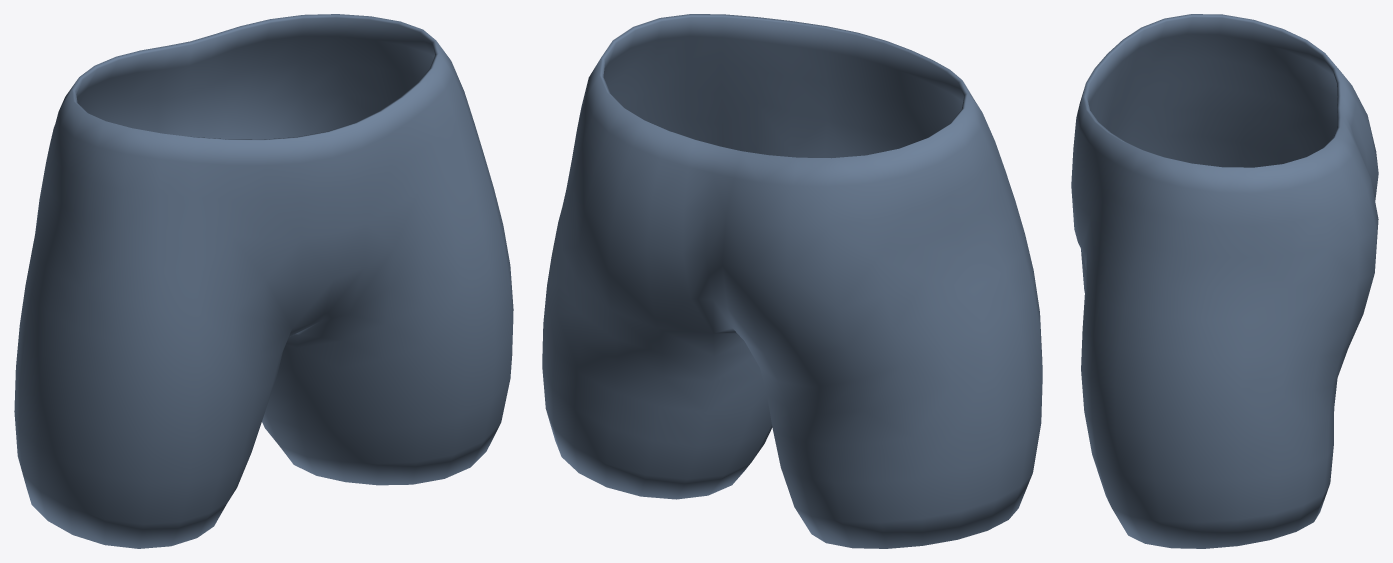
File: shorts.glb
The picture shows the model from 3 angles, left to right: view 1: azimuth 30°, elevation 25°; view 2: azimuth 150°, elevation 25°; view 3: azimuth 270°, elevation 25°; orthographic projection. The views are drawn at different scales.
Parts seen in each view (by area): view 1: shorts; view 2: shorts; view 3: shorts.
Boxes of the visible parts, x1,y1,x2,y2 form: shorts: [14, 14, 513, 548]; shorts: [542, 14, 1042, 548]; shorts: [1071, 14, 1378, 548].
Size of the model in its own units: 0.4087 by 0.351 by 0.2559.
